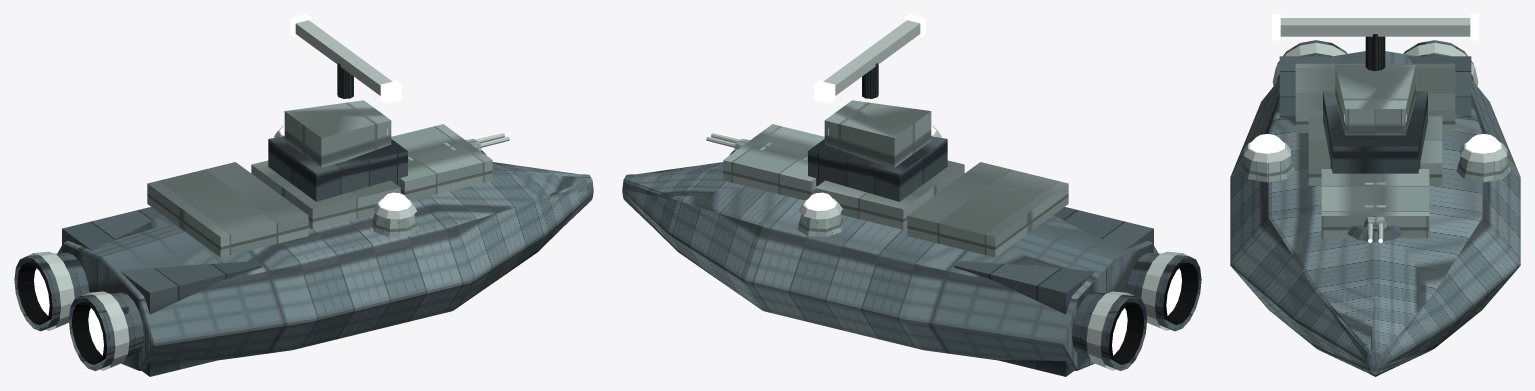
File: command_ship.glb
3 renders of one model, left to right at view 1: azimuth 30°, elevation 25°; view 2: azimuth 150°, elevation 25°; view 3: azimuth 270°, elevation 25°, orthographic. The views are drawn at different scales.
Parts seen in each view (by area): view 1: hull_body, engine_block, sensor_tower, shield_domes; view 2: hull_body, engine_block, sensor_tower, shield_domes; view 3: hull_body, sensor_tower, engine_block, shield_domes, weapon_turrets.
Part boxes in pixels (x1,y1,x2,y2): hull_body: (57, 124, 593, 370); engine_block: (14, 207, 261, 376); sensor_tower: (268, 14, 407, 201); shield_domes: (274, 125, 418, 236); hull_body: (622, 124, 1158, 370); engine_block: (954, 207, 1201, 376); sensor_tower: (808, 14, 947, 201); shield_domes: (797, 125, 941, 236); hull_body: (1230, 51, 1520, 376); sensor_tower: (1272, 14, 1478, 173); engine_block: (1272, 40, 1478, 117); shield_domes: (1240, 134, 1510, 182); weapon_turrets: (1347, 182, 1403, 242).
Size of the model in its own units: 56 by 25.7 by 24.38.
1 material, 1 textured.
